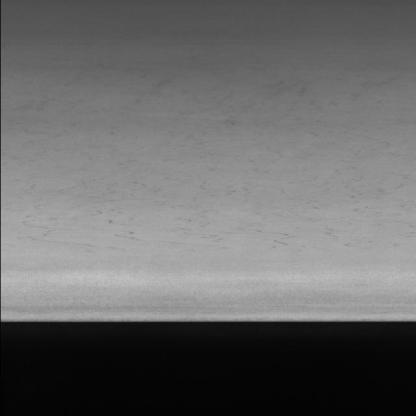silk_spot: (27, 164, 382, 253)
